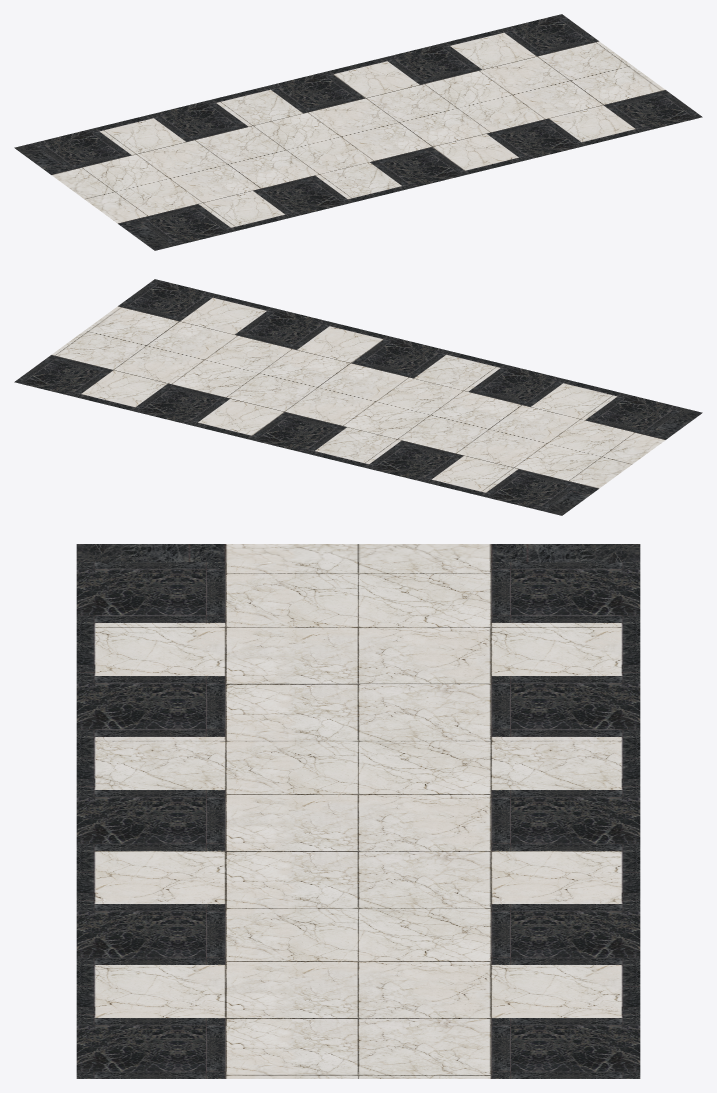
The model's file is KnightCastle_Hallway_Floor.FBX.
The picture shows the model from 3 angles, top to bottom: view 1: azimuth 30°, elevation 25°; view 2: azimuth 150°, elevation 25°; view 3: azimuth 270°, elevation 25°; orthographic projection. The views are drawn at different scales.
Visible parts, largest first — view 1: SM_KnightCastle_Hallway_Floor; view 2: SM_KnightCastle_Hallway_Floor; view 3: SM_KnightCastle_Hallway_Floor.
Part boxes in pixels (box(x1,y1,x2,y2)): SM_KnightCastle_Hallway_Floor: box(14, 14, 702, 250); SM_KnightCastle_Hallway_Floor: box(14, 279, 702, 515); SM_KnightCastle_Hallway_Floor: box(76, 544, 640, 1078).
Bounding box in the file's own units: 2625 × 1169 × 7.32e-05.
